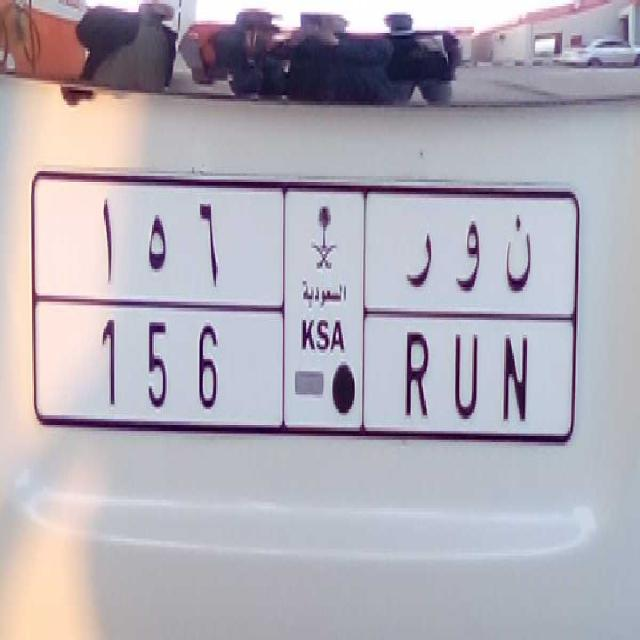license_plate: (61, 295, 544, 450)
